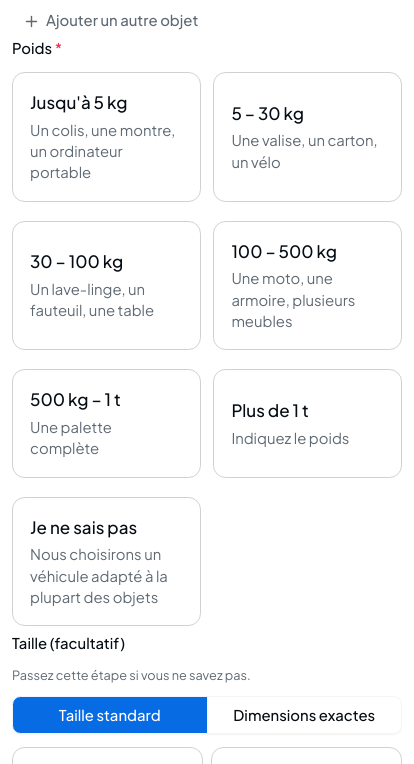
Scenario: size › swaps the cards for three fields when exact dimensions are chosen
What coordinates should you click on to do the following:
click the radio button labelled "Dimensions exactes"
I would click on:
 (305, 715)
Its box is x1=208 y1=696 x2=402 y2=734.
(page scrolled)
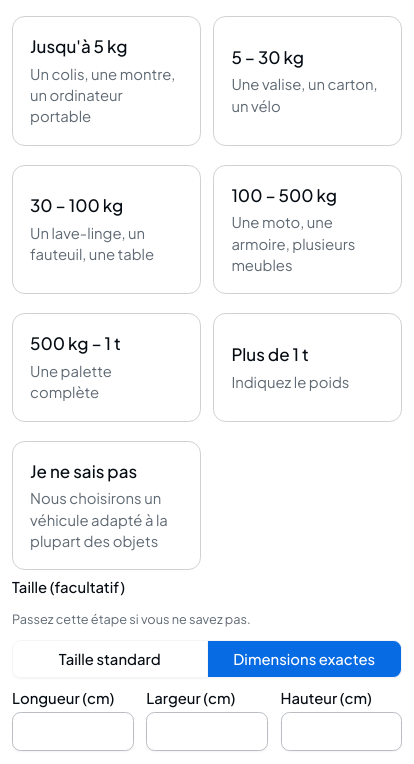
Expected: the field labelled "Longueur (cm)" is shown, x1=12 y1=712 x2=134 y2=751
Expected: the field labelled "Largeur (cm)" is shown, x1=146 y1=712 x2=268 y2=751
Expected: the field labelled "Hauteur (cm)" is shown, x1=280 y1=712 x2=402 y2=751
